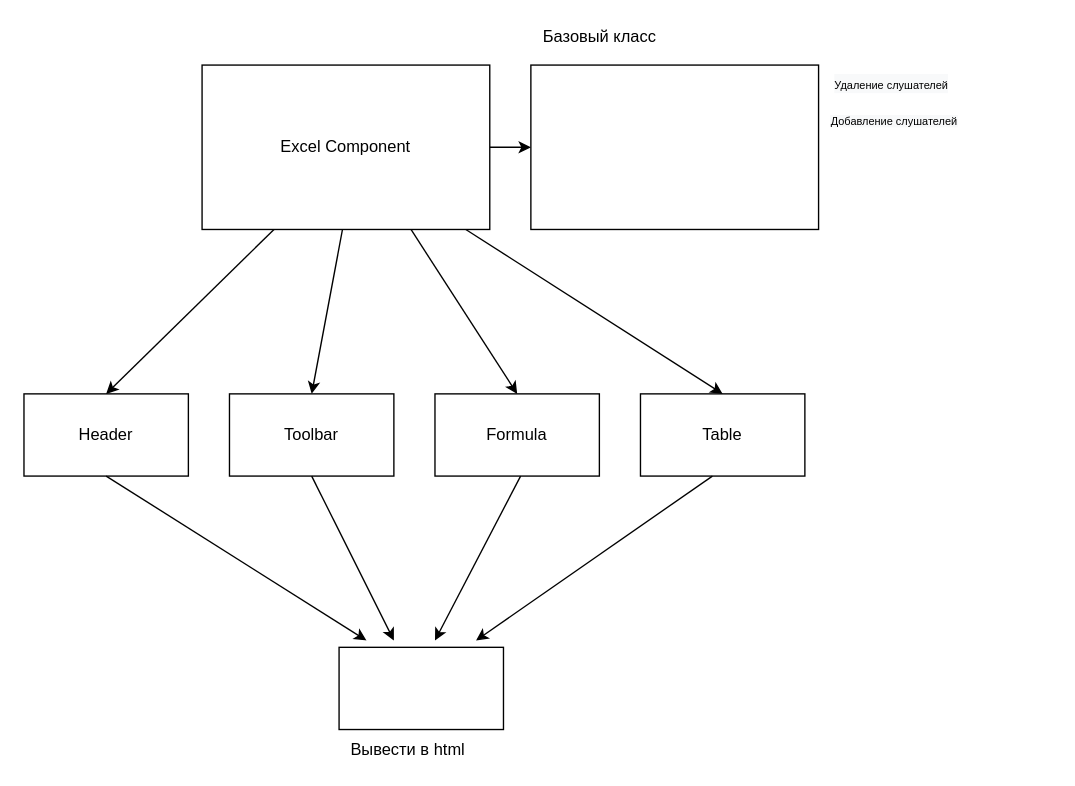
This 1075x786 diagram has some shape labels left out. Each missing label, with the centre of its shape:
"DOM Listener" belongs at (x=674, y=146).
"Excel" belongs at (x=420, y=688).
